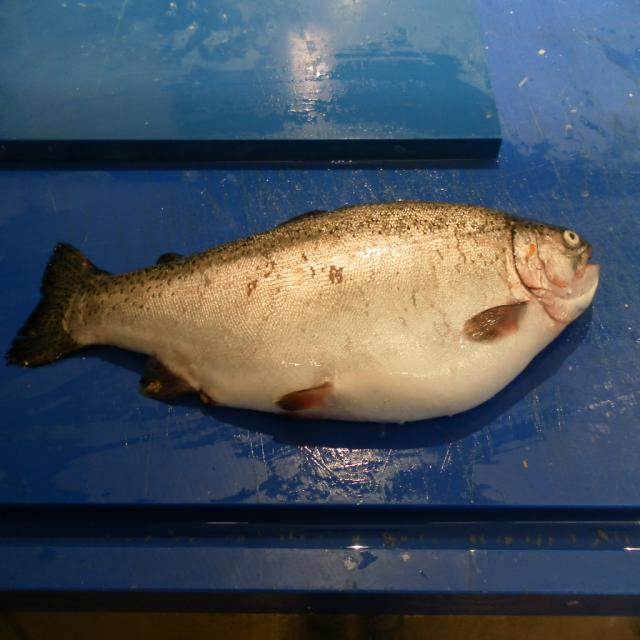Trout-alabalik-: (6, 202, 599, 422)
